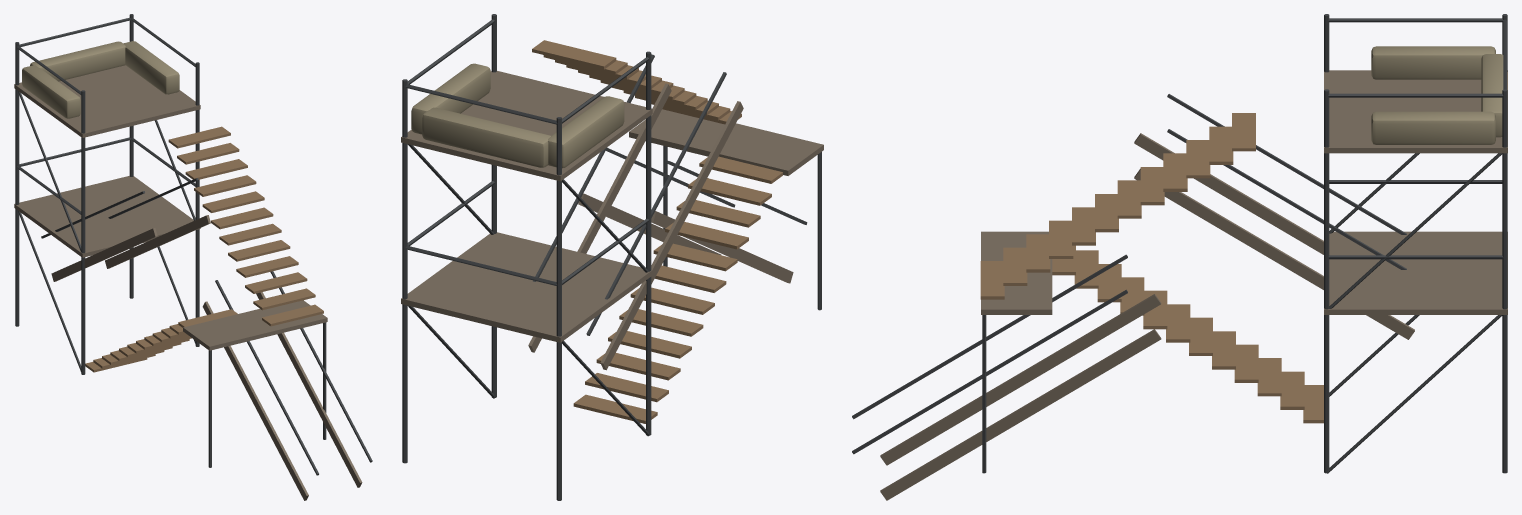
Rendered from ZR_ScaffoldTower.fbx.
3 renders of one model, left to right at view 1: azimuth 30°, elevation 25°; view 2: azimuth 150°, elevation 25°; view 3: azimuth 270°, elevation 25°, orthographic. The views are drawn at different scales.
Visible parts, largest first — view 1: ZR_ScaffoldTower; view 2: ZR_ScaffoldTower; view 3: ZR_ScaffoldTower.
Boxes of the visible parts, <box> form: ZR_ScaffoldTower: <box>14,14,372,500</box>; ZR_ScaffoldTower: <box>401,14,823,500</box>; ZR_ScaffoldTower: <box>852,14,1507,500</box>.
Bounding box in the file's own units: 3.1 × 7.64 × 11.04.
